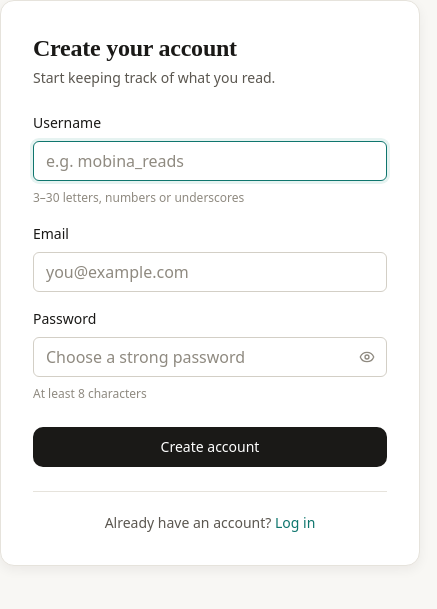
Test: RegisterPage › maps a 409 from the server onto the email field
The image size is (437, 609).
Type "mobina" into the field labelled "Username" at point(210, 161), box [33, 141, 387, 181]
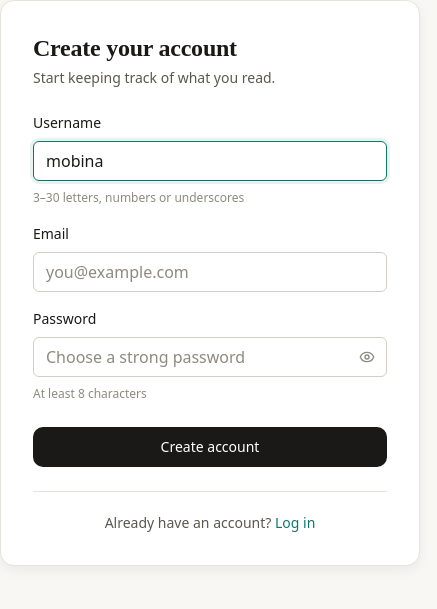
Type "mobina@example.com" into the field labelled "Email" at point(210, 272), box [33, 252, 387, 292]
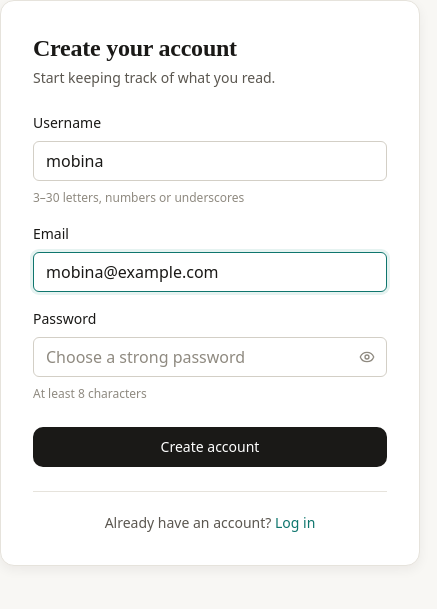
Type "password123" into the password field labelled "Password" at point(210, 357), box [33, 337, 387, 377]
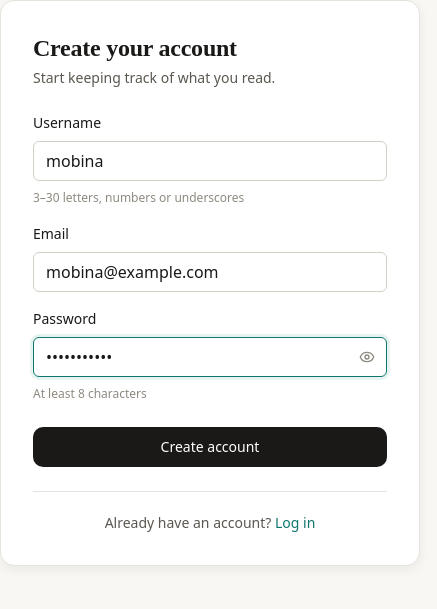
Click the button "Create account" at point(210, 447), box [33, 427, 387, 467]
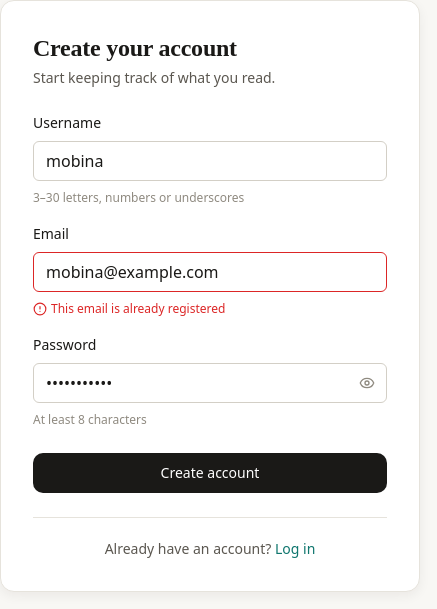
Check: the text "This email is already registered" is shown, box [33, 300, 225, 318]
